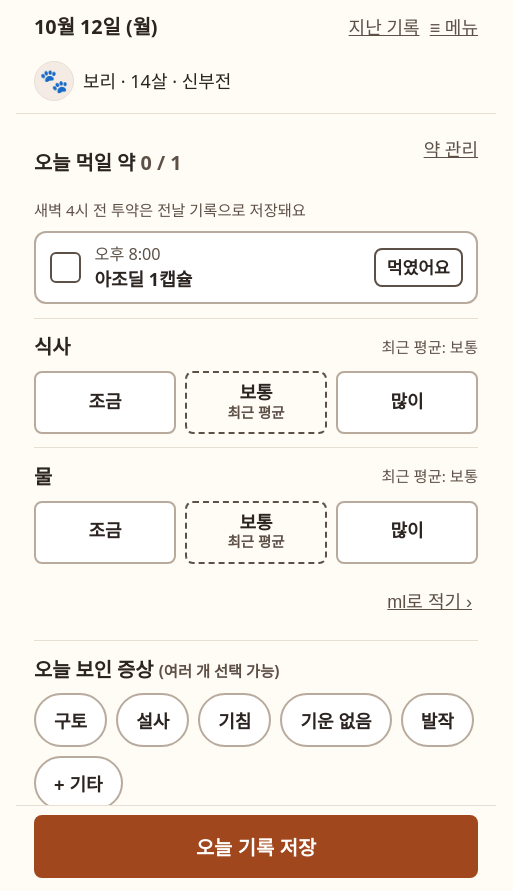
Scenario: QA: 저장·되돌리기 동시 가드 › 되돌리는 중에는 저장 버튼이 잠기고 PUT 이 나가지 않는다
Click the button "오늘 기록 저장" at (256, 846), box top-left (34, 814), bottom-right (478, 878)
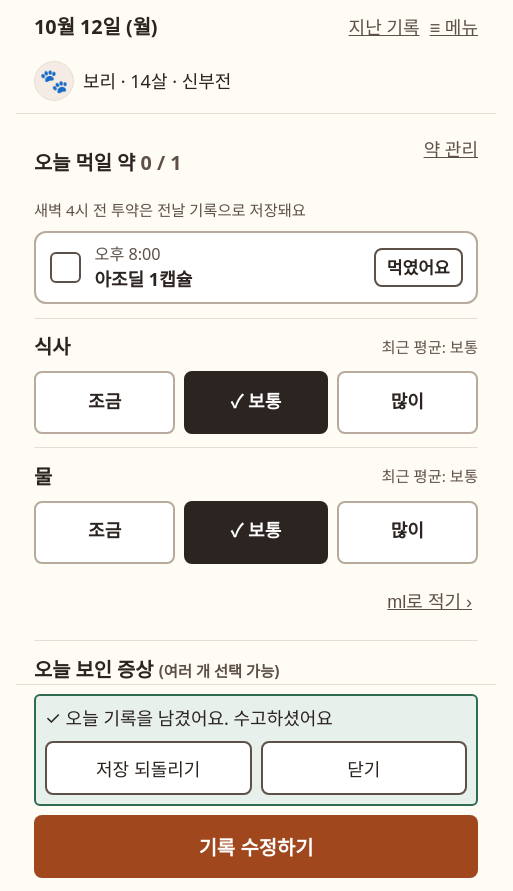
Click the button "저장 되돌리기" at (148, 768), box top-left (45, 740), bottom-right (252, 794)
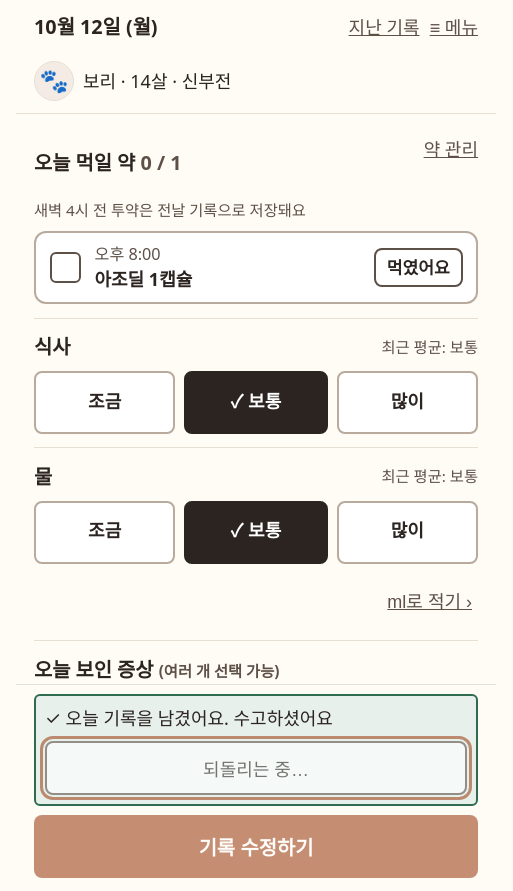
expect the button "되돌리는 중…" is shown: met, box top-left (45, 740), bottom-right (467, 794)
expect the button "기록 수정하기" is disabled: met
Click the button "기록 수정하기" at (256, 846), box top-left (34, 814), bottom-right (478, 878)
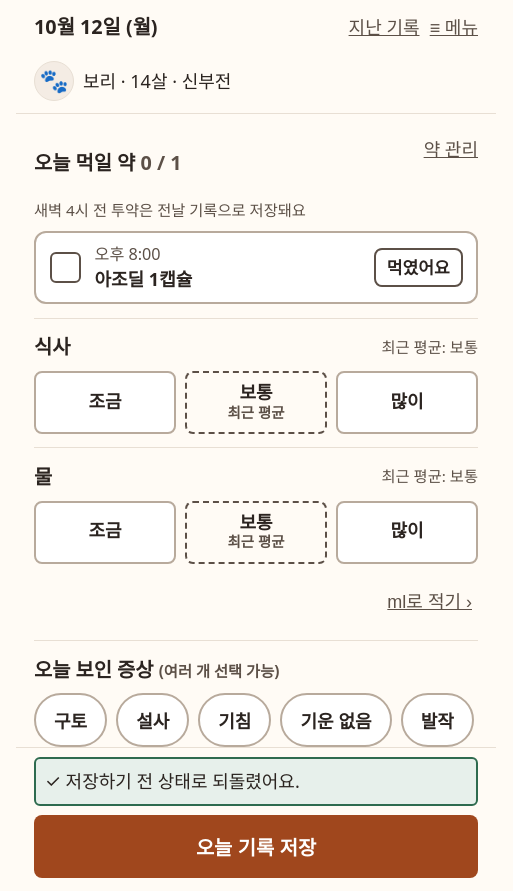
expect the text "저장하기 전 상태로 되돌렸어요." is shown: met, box top-left (66, 768), bottom-right (300, 792)
